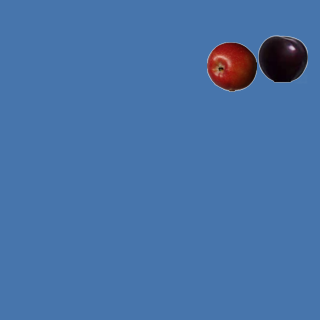Apple Braeburn: (206, 41, 256, 91)
Cherry Wax Black: (257, 33, 307, 83)
